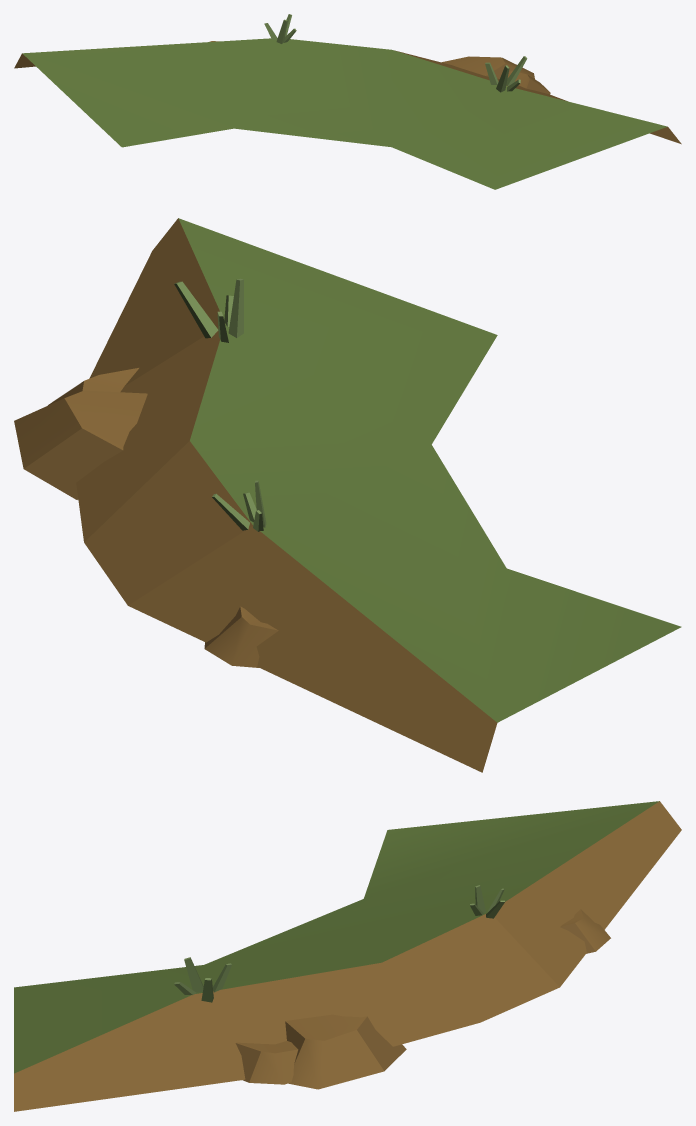
The model's file is SF_Env_GrassEdge_Corner_02.fbx.
3 renders of one model, top to bottom at view 1: azimuth 30°, elevation 25°; view 2: azimuth 150°, elevation 25°; view 3: azimuth 270°, elevation 25°, orthographic. The views are drawn at different scales.
Visible parts, largest first — view 1: SF_Env_GrassEdge_Corner_02; view 2: SF_Env_GrassEdge_Corner_02; view 3: SF_Env_GrassEdge_Corner_02.
Part boxes in pixels (box(x1,y1,x2,y2)): SF_Env_GrassEdge_Corner_02: box(14, 14, 681, 189); SF_Env_GrassEdge_Corner_02: box(14, 218, 681, 772); SF_Env_GrassEdge_Corner_02: box(14, 801, 681, 1111).
Bounding box in the file's own units: 17.87 × 2.54 × 17.89.
